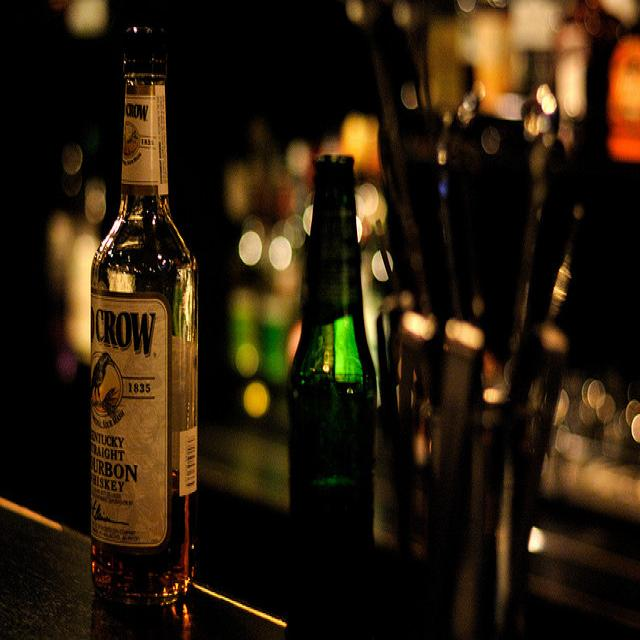Bottle: (68, 5, 217, 635), (285, 105, 390, 619)
